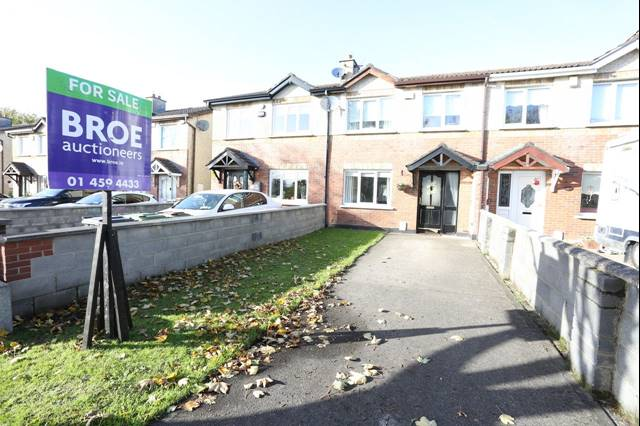property sign: (36, 54, 164, 207)
